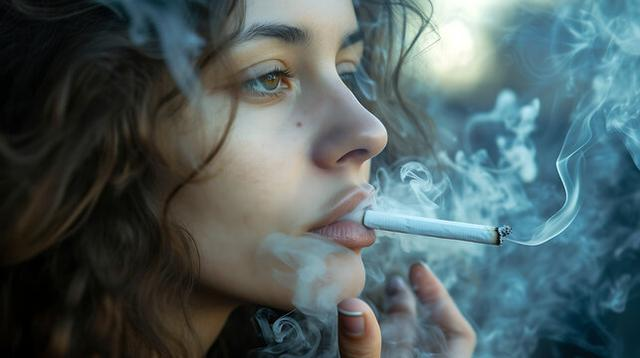Cigarette: (360, 207, 511, 247)
